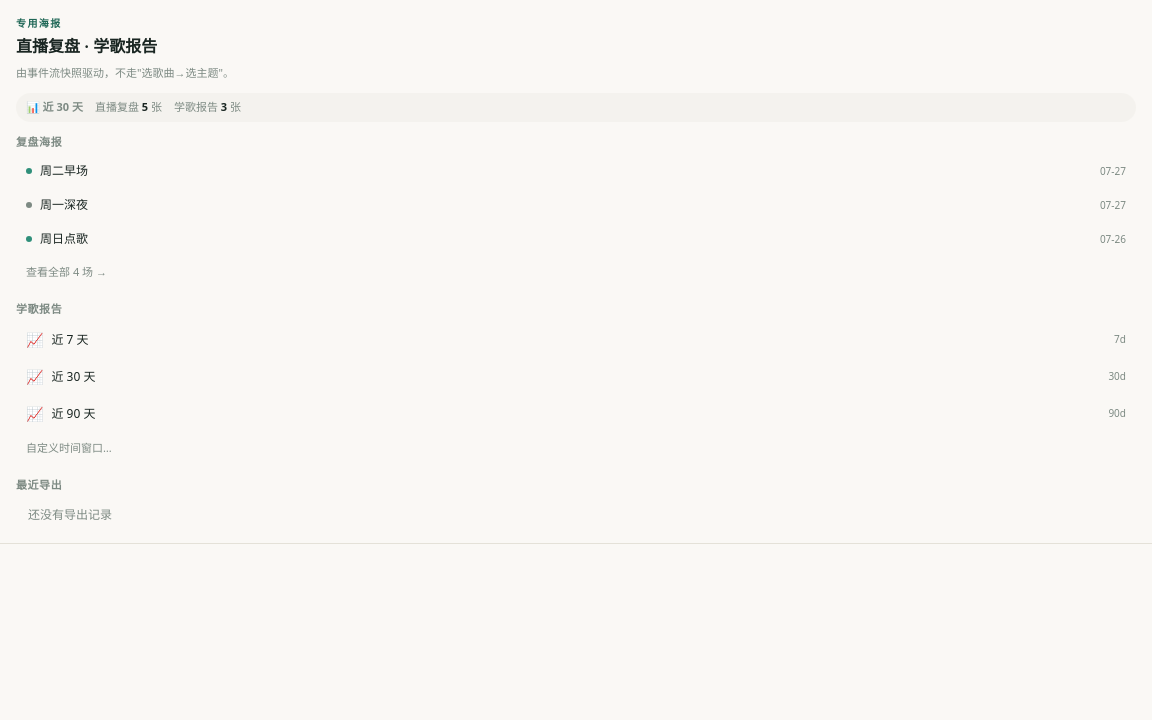
Test: SpecialPostersPanel 复盘海报触发 › 「查看全部」弹窗含全部 4 场（含被折叠的）
Click the button "查看全部 4 场 →": (66, 272) x1=16 y1=260 x2=117 y2=284
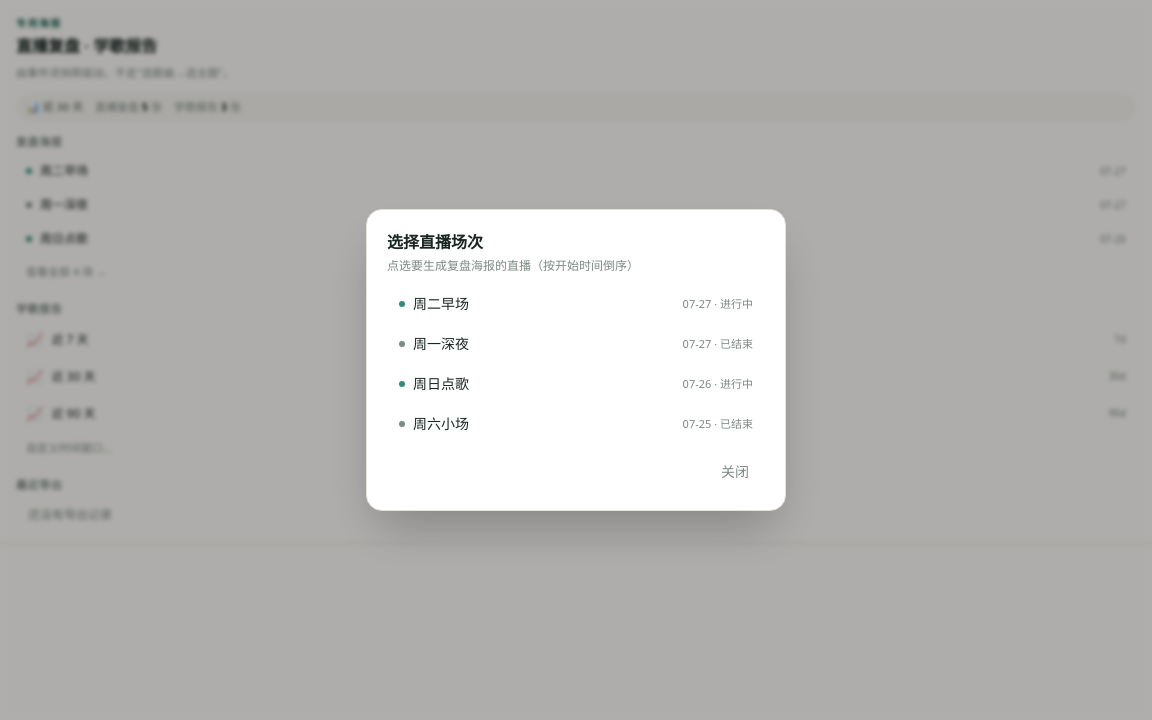
Result: the text "周六小场" is shown at x1=413 y1=414 x2=469 y2=433
